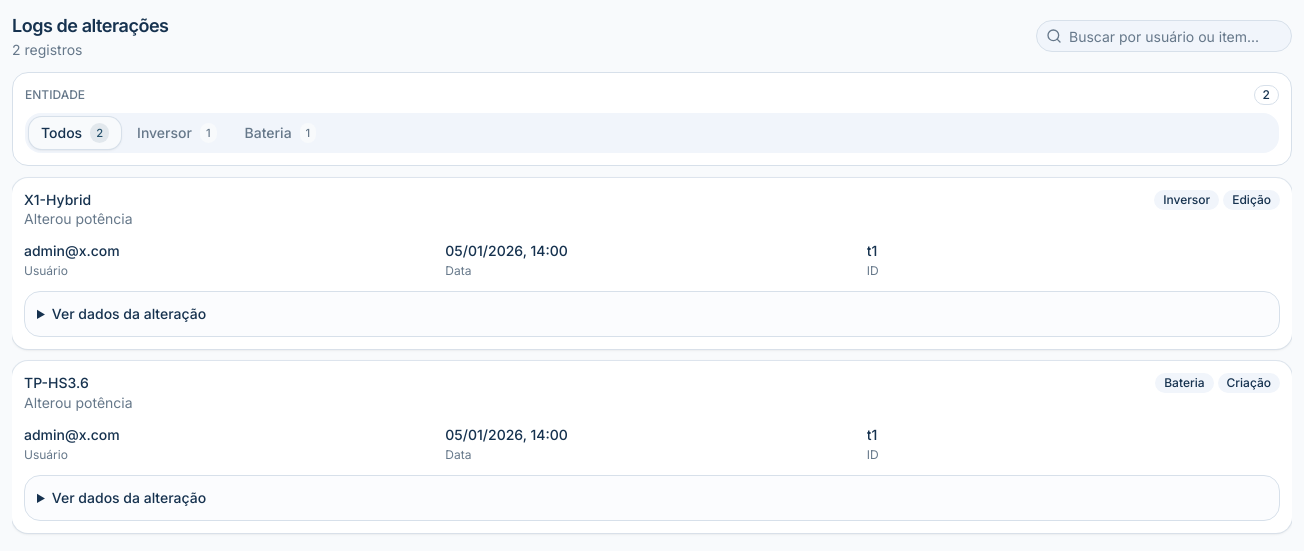
Test: ActivityLogsPanel › filters by entity type and by search, with a filter-specific empty state
The width and height of the screenshot is (1304, 551).
Step 1. Click the button "Bateria 1" → (280, 133), box [233,117,328,149]
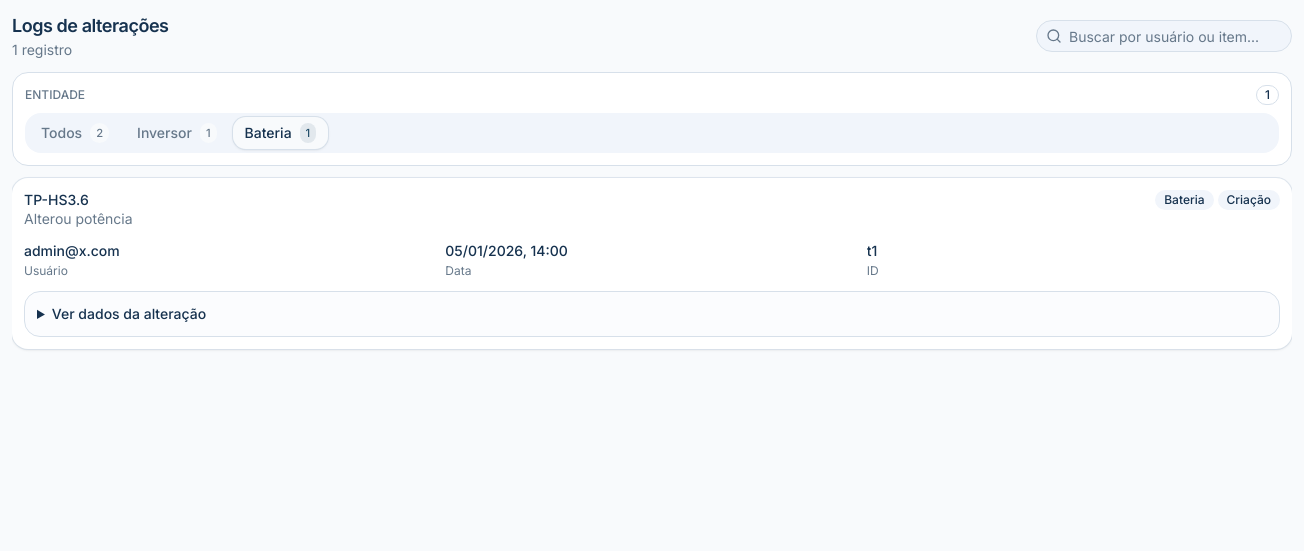
Expected: the text "TP-HS3.6" is shown, [24,191,89,208]
Expected: the text "X1-Hybrid" is gone
Step 2. Click the button "Todos 2" → (75, 133), box [29,117,121,149]
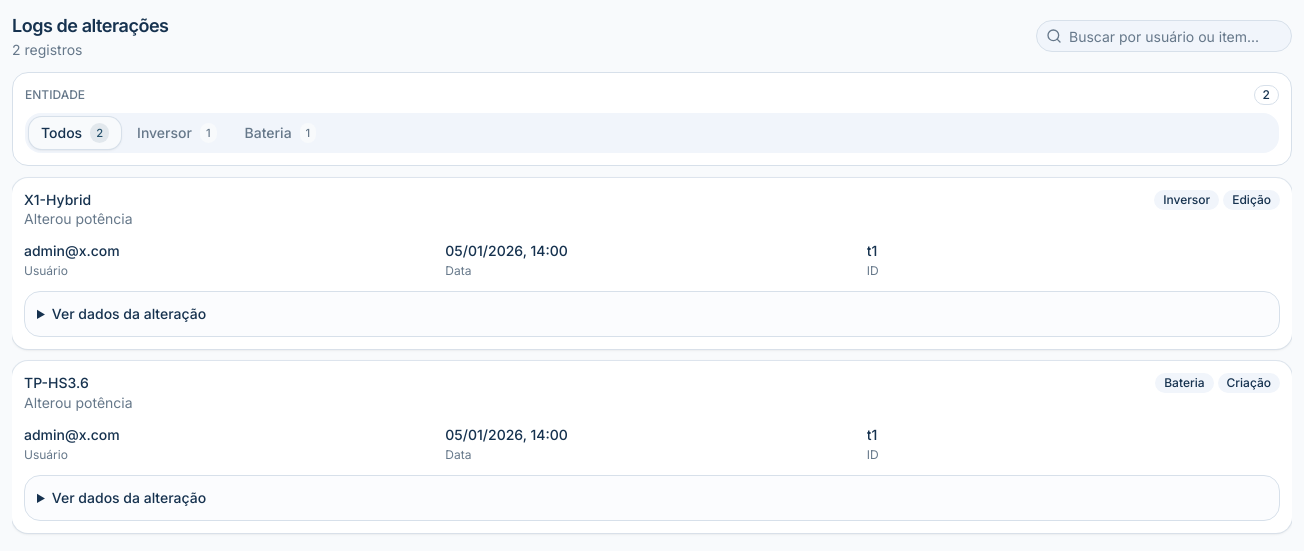
Step 3. Type "nonexistent" into the field named "Buscar log por usuário ou item" → (1164, 36), box [1036,20,1292,52]
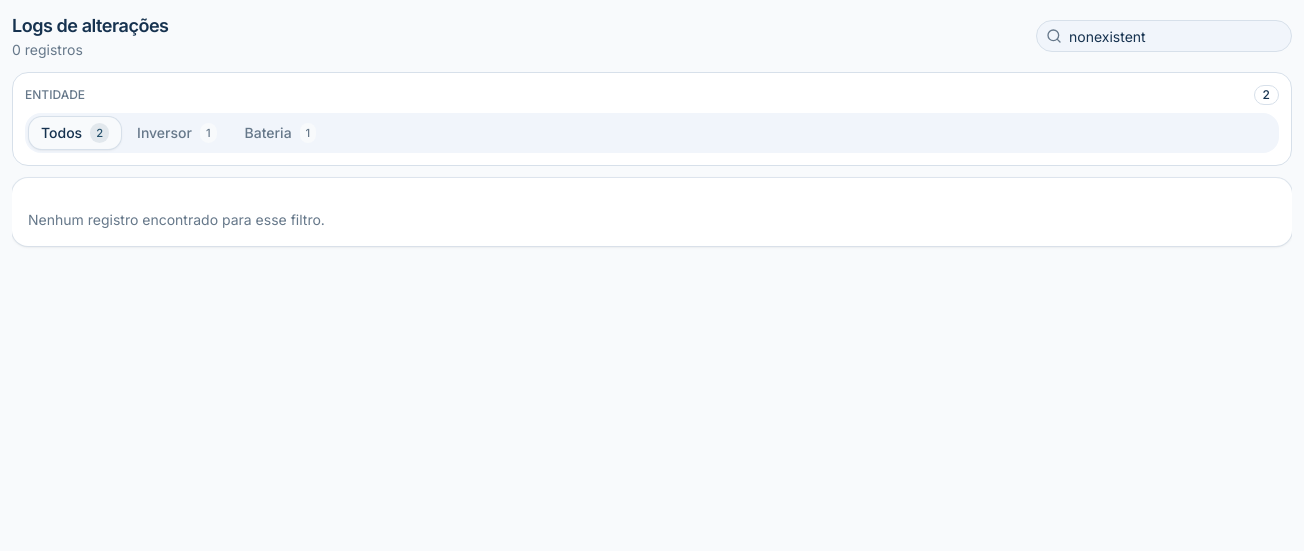
Expected: the text "Nenhum registro encontrado para esse filtro." is shown, [28,211,325,228]
